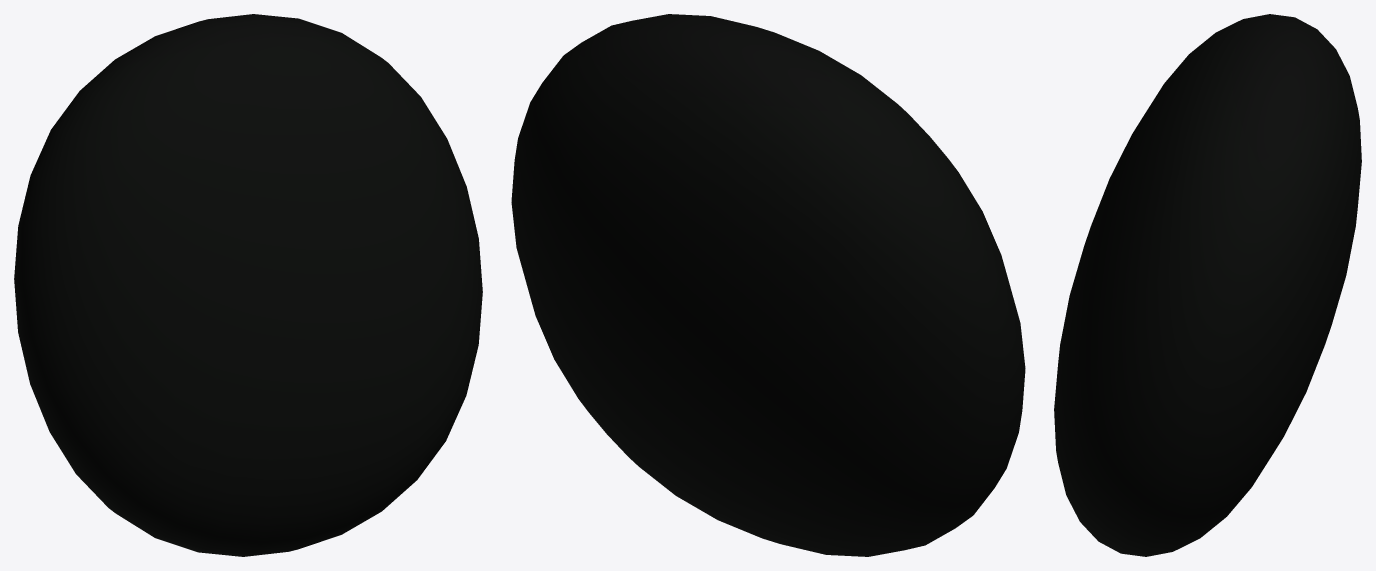
The model's file is R_blackEye.obj.
The picture shows the model from 3 angles, left to right: view 1: azimuth 30°, elevation 25°; view 2: azimuth 150°, elevation 25°; view 3: azimuth 270°, elevation 25°; orthographic projection. The views are drawn at different scales.
Visible parts, largest first — view 1: textureEditorIsolateSelectSet R_blackEye Jake; view 2: textureEditorIsolateSelectSet R_blackEye Jake; view 3: textureEditorIsolateSelectSet R_blackEye Jake.
Boxes of the visible parts, <box> form: textureEditorIsolateSelectSet R_blackEye Jake: <box>14,14,482,556</box>; textureEditorIsolateSelectSet R_blackEye Jake: <box>511,14,1025,556</box>; textureEditorIsolateSelectSet R_blackEye Jake: <box>1054,14,1361,556</box>.
Bounding box in the file's own units: 1.84 × 1.97 × 1.11.
